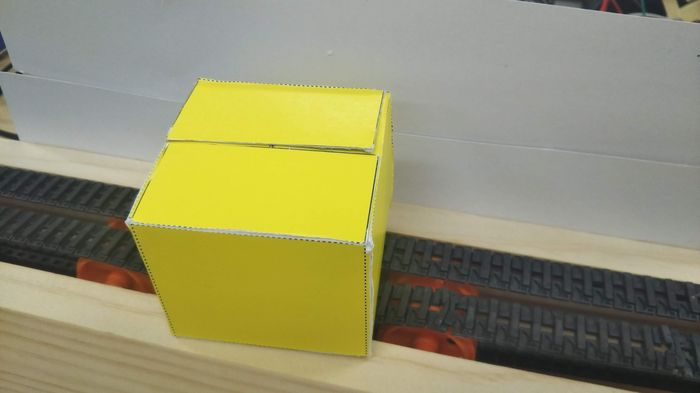box4: (120, 69, 409, 367)
